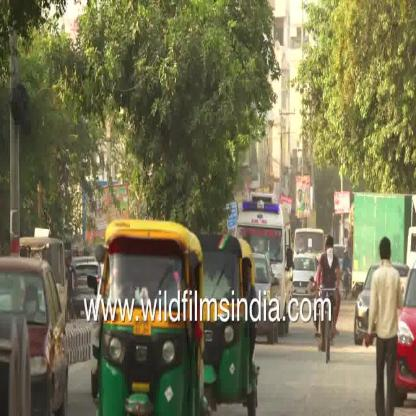priority: (236, 191, 292, 245)
